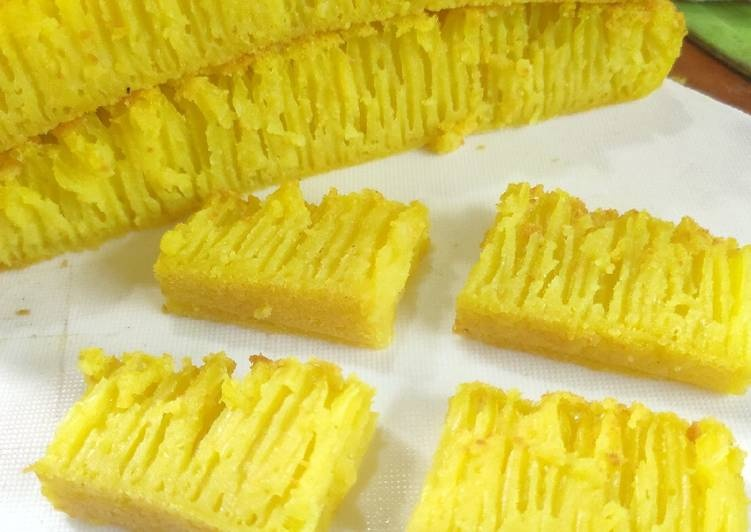bika_ambon: (26, 339, 394, 525), (460, 154, 750, 378), (414, 362, 751, 532), (157, 169, 400, 317)
